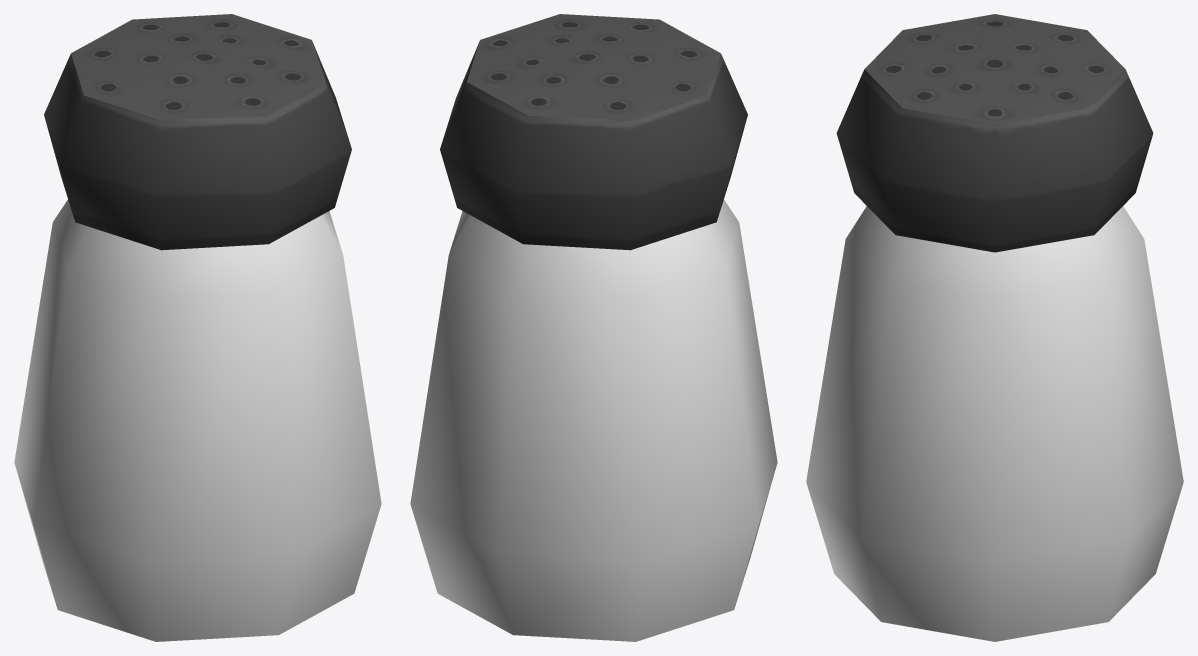
Rendered from salt.FBX.
3 renders of one model, left to right at view 1: azimuth 30°, elevation 25°; view 2: azimuth 150°, elevation 25°; view 3: azimuth 270°, elevation 25°, orthographic.
Visible parts, largest first — view 1: salt (×2); view 2: salt (×2); view 3: salt (×2).
Boxes of the visible parts, <box> form: salt (×2): <box>14,14,381,641</box>; salt (×2): <box>410,14,777,641</box>; salt (×2): <box>806,14,1183,641</box>.
Bounding box in the file's own units: 2.78 × 4.18 × 2.78.
